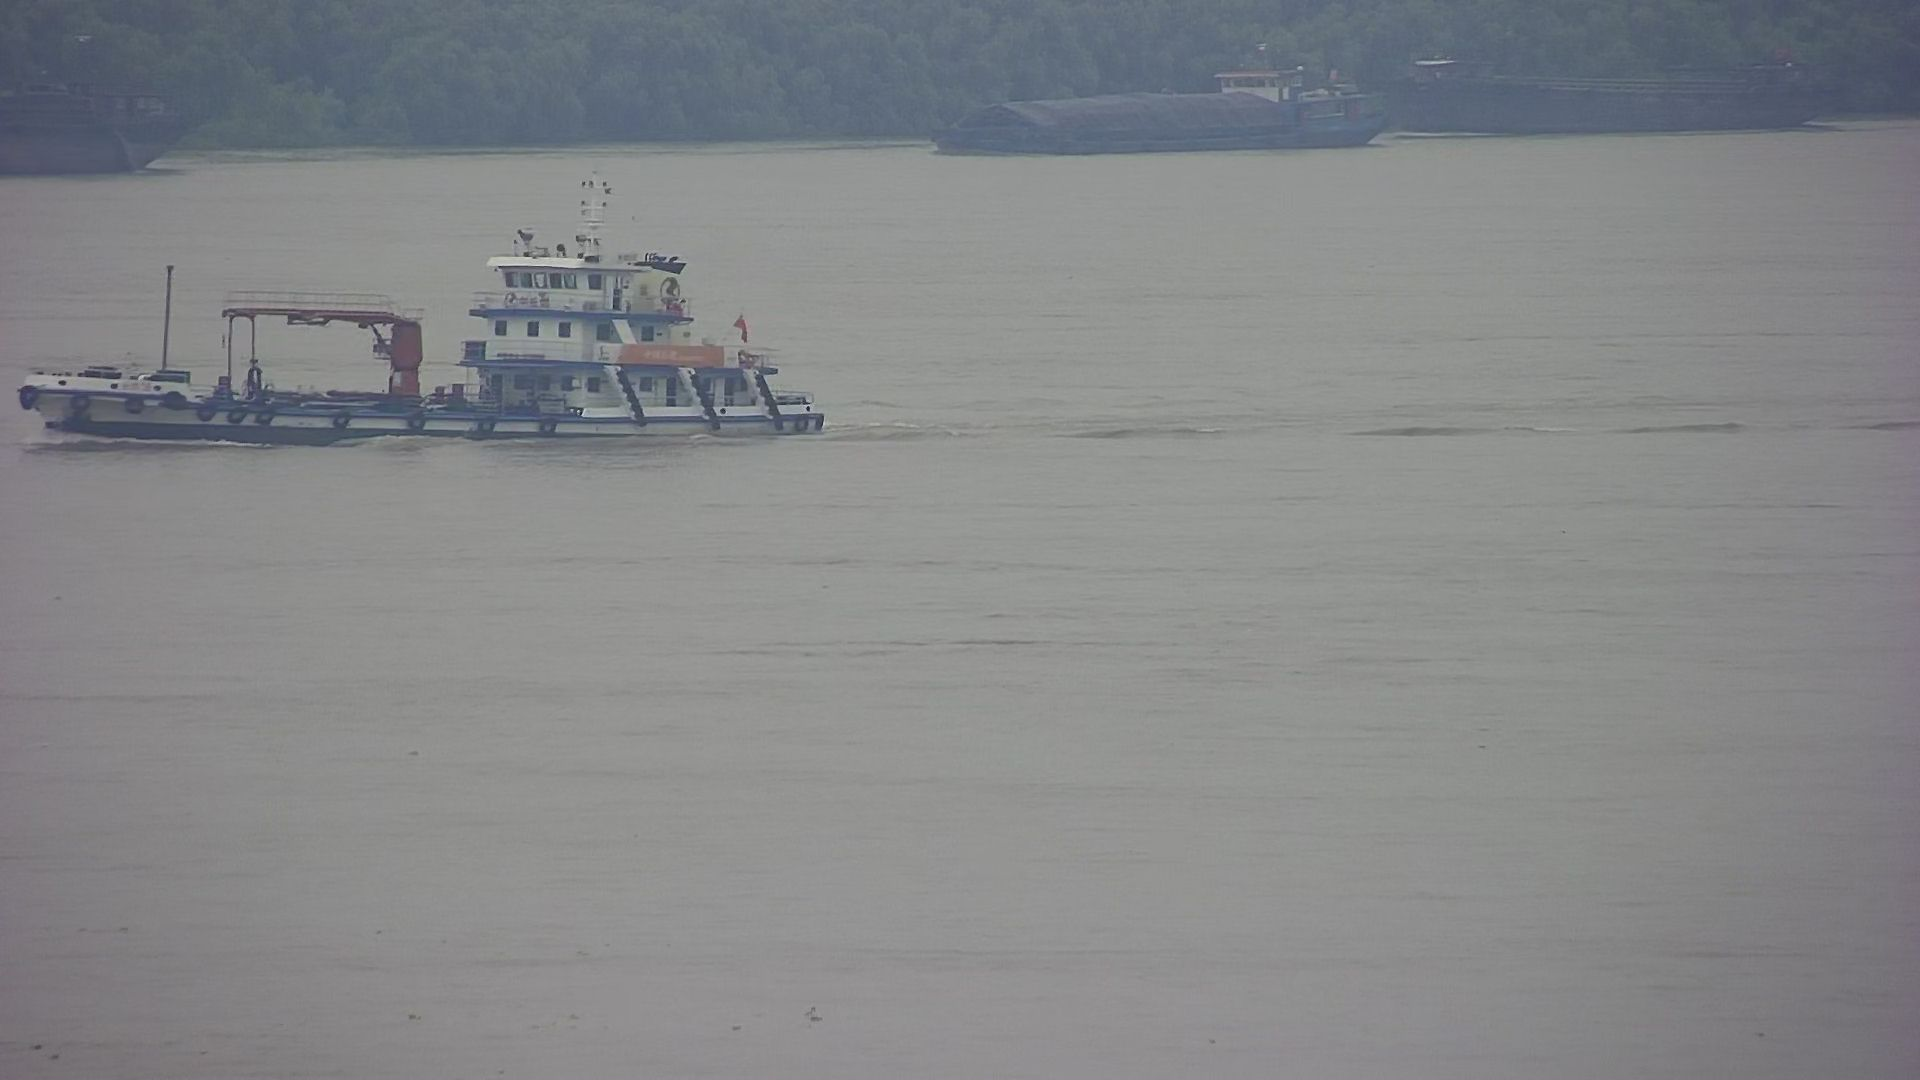ship: (22, 160, 858, 456), (898, 32, 1399, 169), (1389, 28, 1878, 158), (1, 18, 253, 177)
